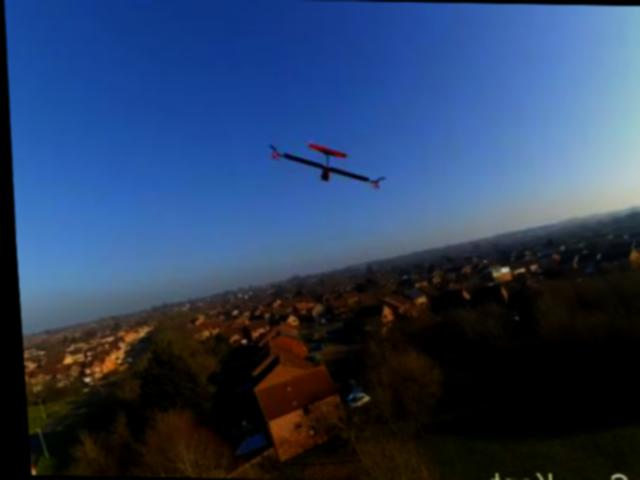uav: (258, 120, 393, 200)
